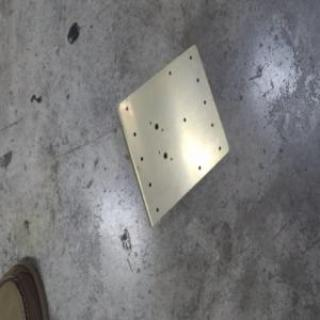MetalSheettrack_idkeyframe: (113, 42, 228, 230)
